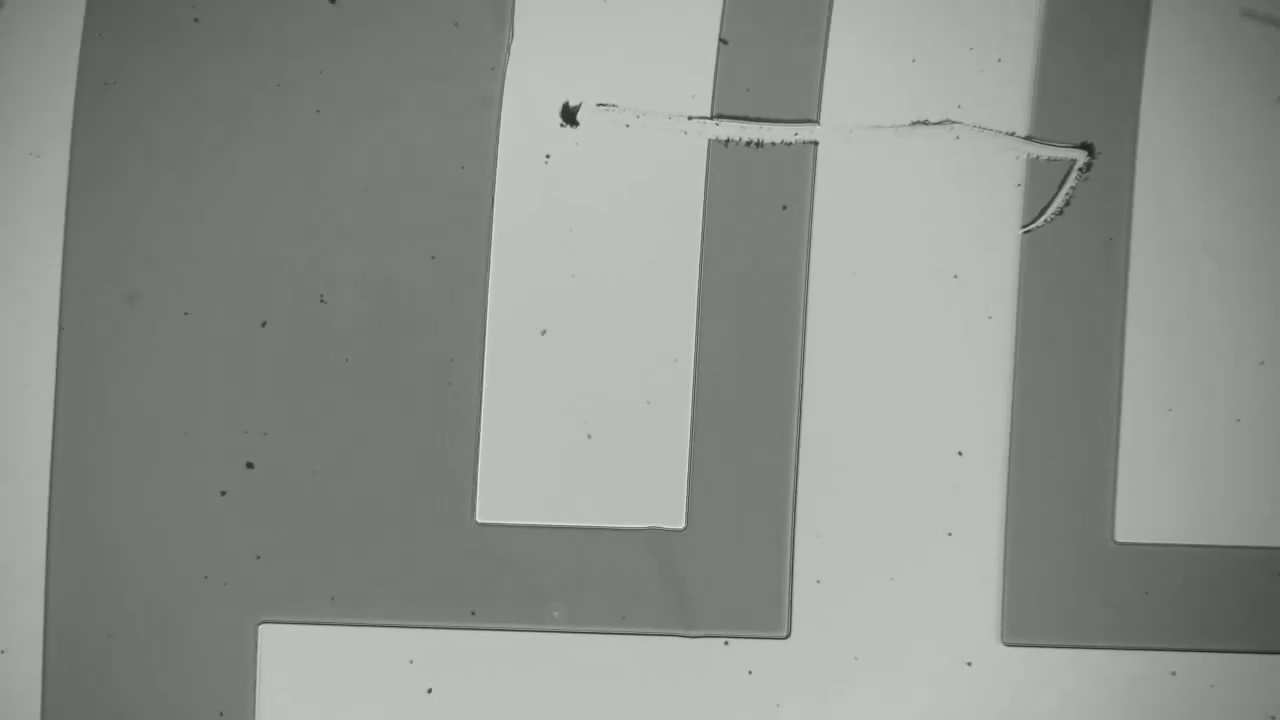Short_circuit: (690, 88, 868, 166), (987, 117, 1169, 172)
